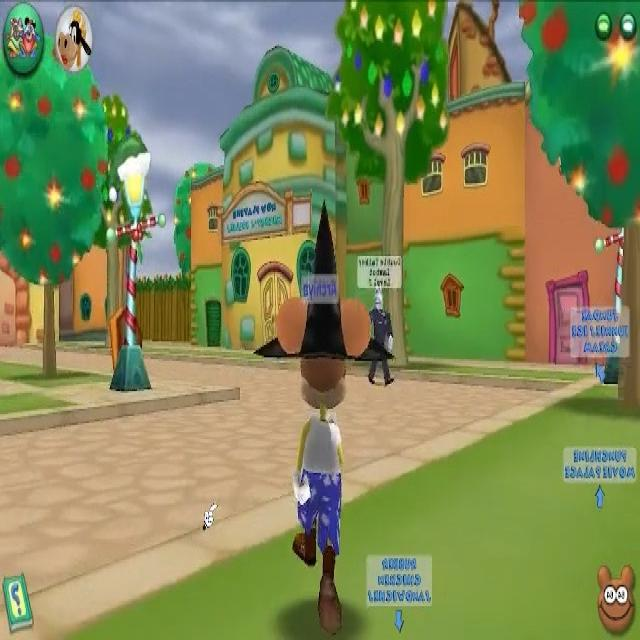doubletalker: (355, 255, 402, 390)
